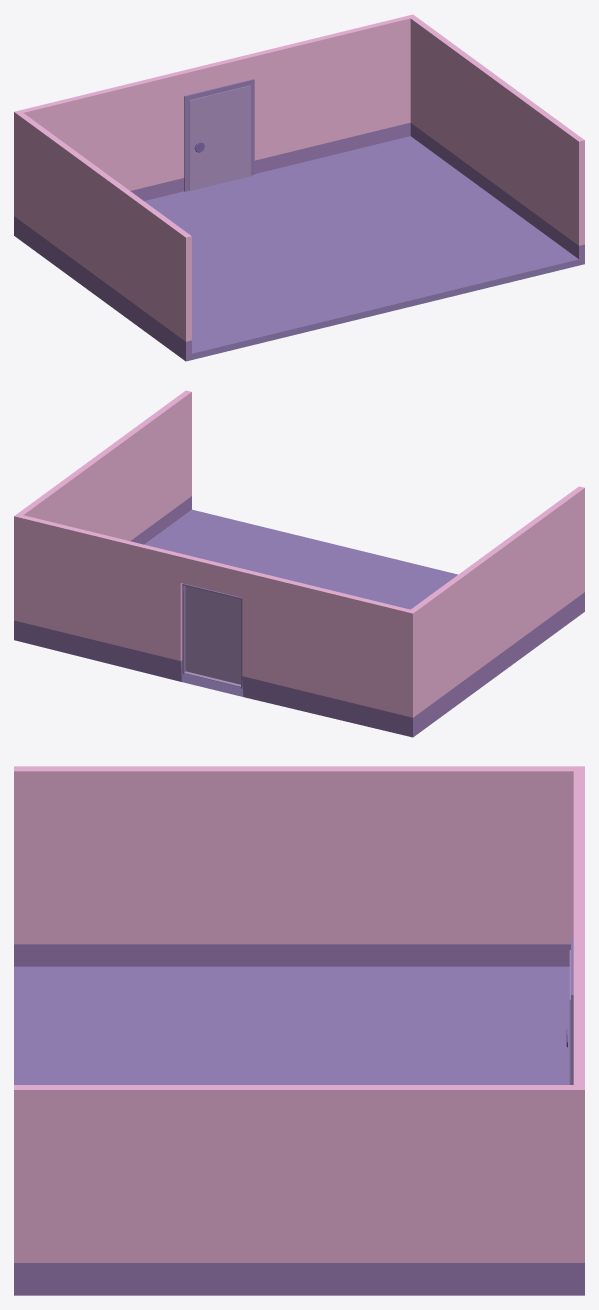
File: MapBase.fbx
The picture shows the model from 3 angles, top to bottom: view 1: azimuth 30°, elevation 25°; view 2: azimuth 150°, elevation 25°; view 3: azimuth 270°, elevation 25°; orthographic projection. The views are drawn at different scales.
Parts seen in each view (by area): view 1: Map 1, Door; view 2: Map 1, Door; view 3: Map 1.
Part boxes in pixels (box(x1,y1,x2,y2)): Map 1: box(14, 14, 584, 361); Door: box(189, 85, 250, 190); Map 1: box(14, 390, 584, 737); Door: box(184, 586, 240, 687); Map 1: box(14, 766, 584, 1295).
Bounding box in the file's own units: 13.37 × 4.03 × 9.97.
